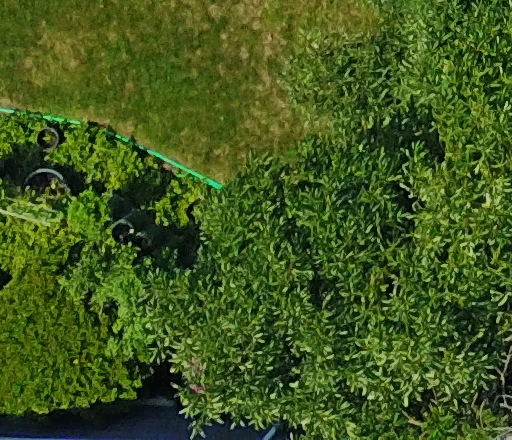pot: (17, 169, 76, 223), (32, 121, 70, 157), (109, 212, 136, 247)
